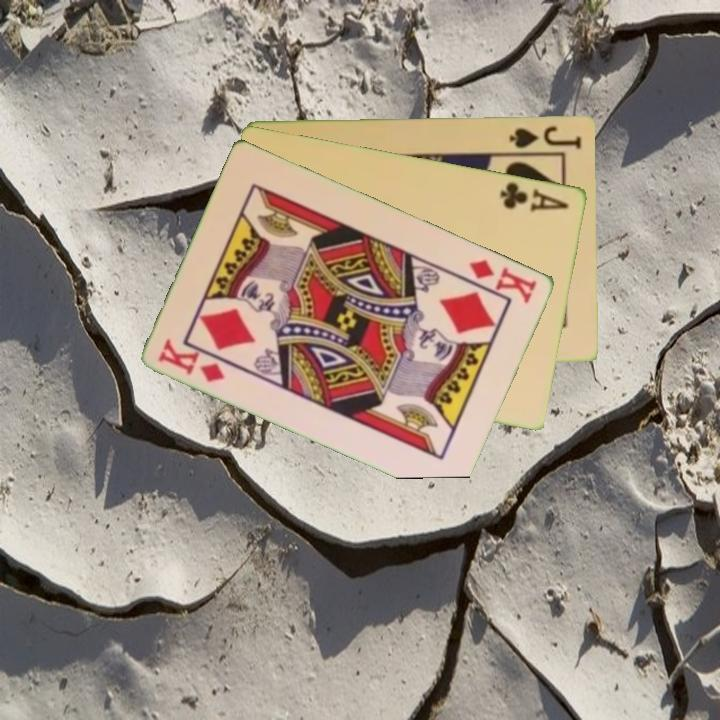Ac: (497, 178, 572, 215)
Js: (506, 122, 585, 151)
Kd: (466, 255, 541, 306), (155, 335, 229, 385)
